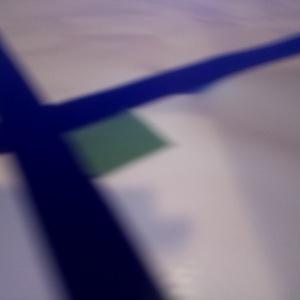bottom_right: (24, 104, 164, 177)
